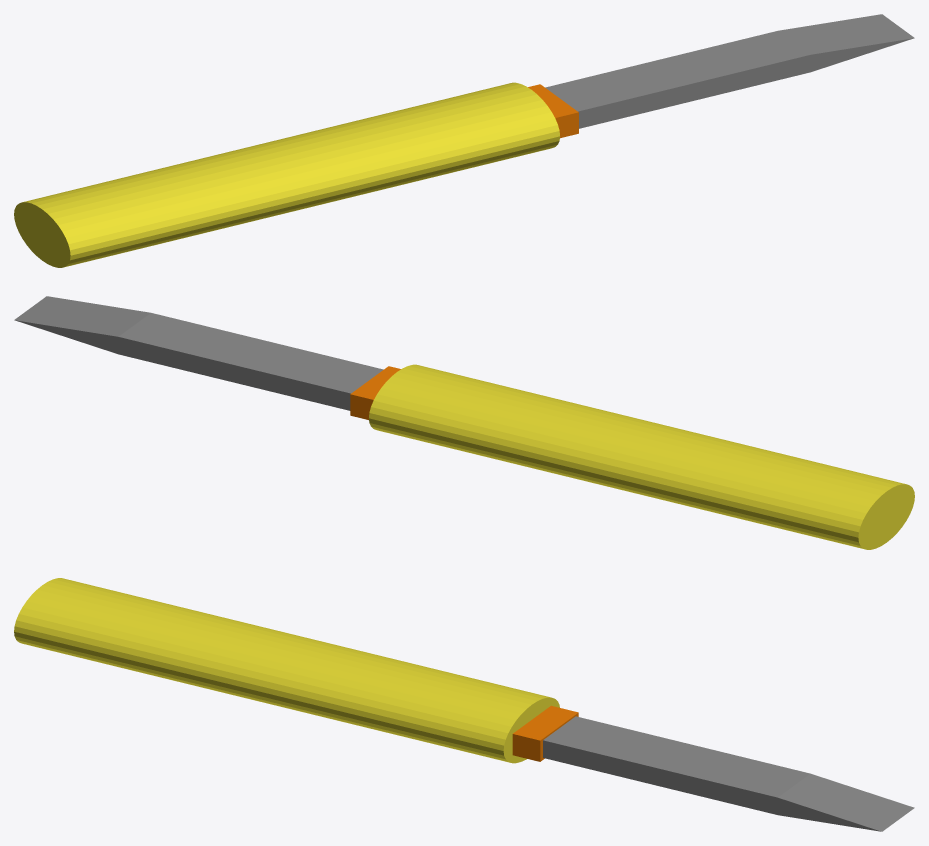
File: chavedefenda.fbx
3 renders of one model, top to bottom at view 1: azimuth 30°, elevation 25°; view 2: azimuth 150°, elevation 25°; view 3: azimuth 330°, elevation 25°, orthographic.
Parts seen in each view (by area): view 1: Cylinder, Cube, Cube.001; view 2: Cylinder, Cube, Cube.001; view 3: Cylinder, Cube, Cube.001.
Boxes of the visible parts, box(x1,y1,x2,y2) form: Cylinder: box(14, 82, 559, 267); Cube: box(545, 14, 914, 128); Cube.001: box(528, 84, 578, 138); Cylinder: box(369, 364, 914, 549); Cube: box(14, 296, 383, 410); Cube.001: box(350, 366, 400, 419); Cylinder: box(14, 578, 559, 763); Cube: box(543, 716, 914, 831); Cube.001: box(512, 705, 578, 761).
Bounding box in the file's own units: 175 × 10 × 20.
